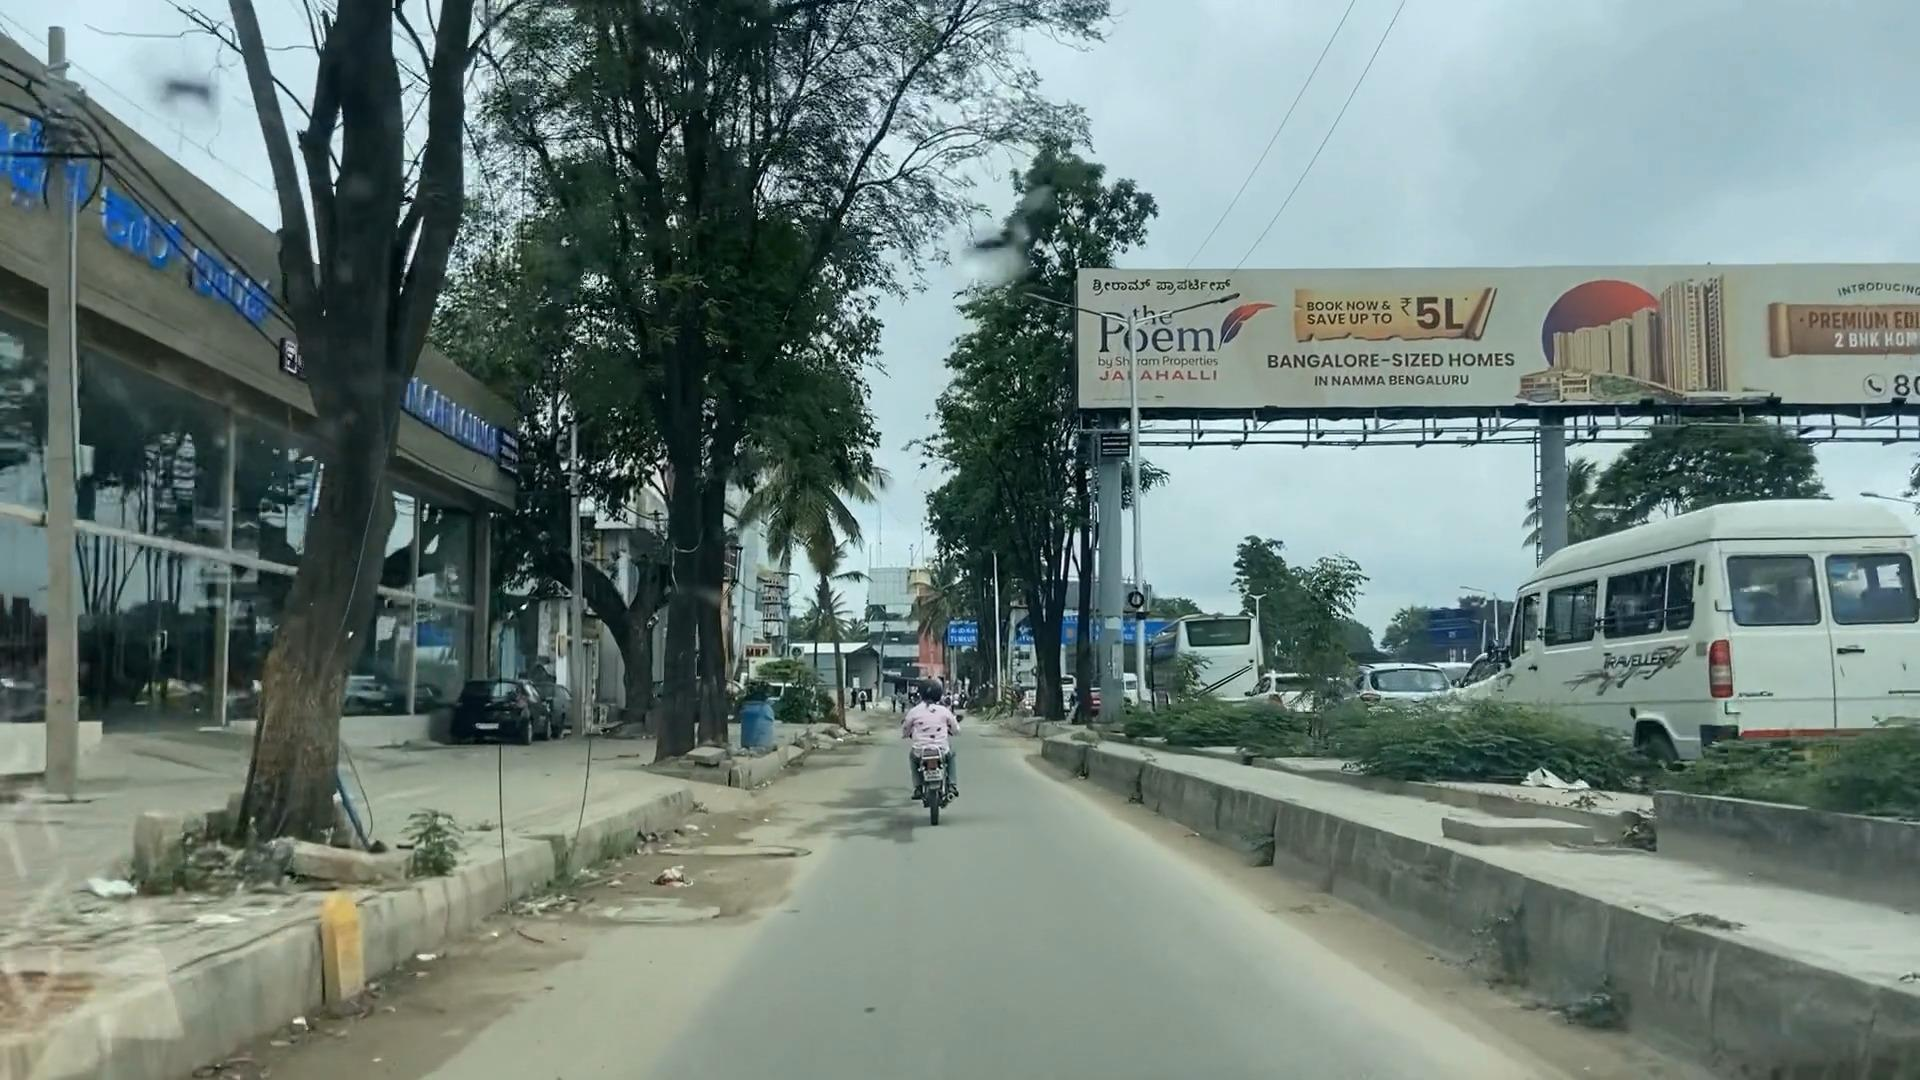RoadDamages: (559, 873, 770, 945)
